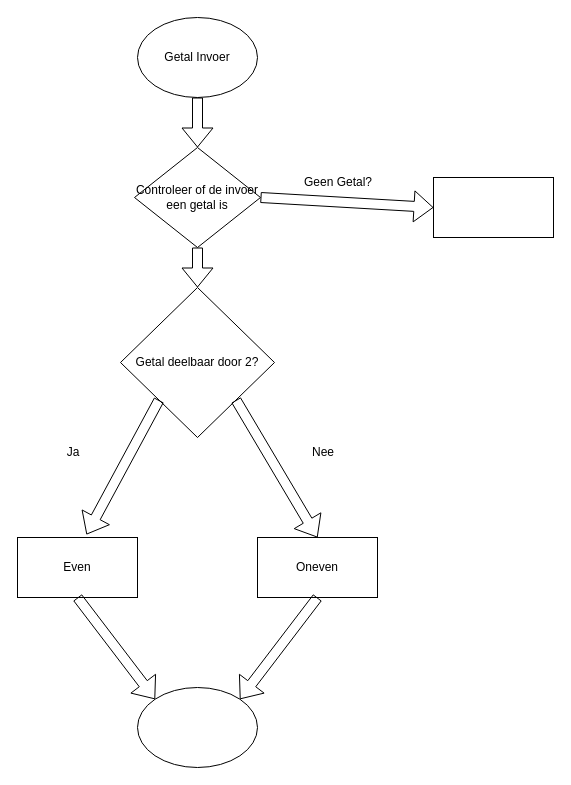
Some shapes in this 571 by 785 pixel diagram are drawn without their labels. The shapes that lost their labels are listed below. From the top down, each one's centre as x and y in pixels, then its label:
At (493,207): "Incorrecte Invoer".
At (197,727): "Einde".
